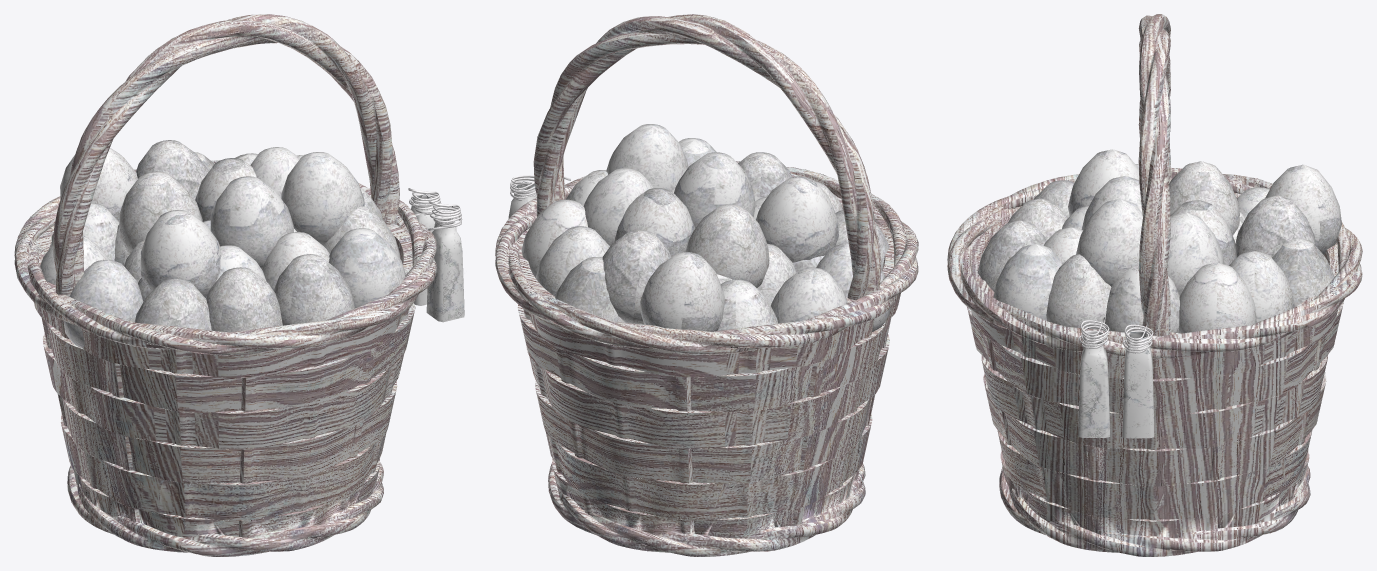
File: balot.obj
3 views of the same model, side by side, from view 1: azimuth 30°, elevation 25°; view 2: azimuth 150°, elevation 25°; view 3: azimuth 270°, elevation 25° (orthographic). The views are drawn at different scales.
Visible parts, largest first — view 1: Basket1, Egg2, Egg1, Egg26, Egg17, Egg20, Egg14, Egg3, Egg9, SawSawan1, Egg13, Egg25 (+9 smaller); view 2: Basket1, Egg15, Egg1, Egg3, Egg25, Egg26, Egg2, Egg23, Egg8, Egg27, Egg5, Egg4 (+8 smaller); view 3: Basket1, Egg6, Egg2, Egg22, Egg20, Egg15, Egg25, Egg27, Asin1, Egg3, SawSawan1, Egg5 (+12 smaller).
Part boxes in pixels (x1,y1,x2,y2): Basket1: (14,14,437,556); Egg2: (281,152,364,245); Egg1: (140,210,221,297); Egg26: (210,176,293,268); Egg17: (273,254,354,325); Egg20: (329,228,405,311); Egg14: (206,267,282,332); Egg3: (119,171,202,254); Egg9: (63,260,143,347); SawSawan1: (426,219,464,322); Egg13: (134,278,211,375); Egg25: (136,140,208,199); Basket1: (495,14,918,556); Egg15: (640,252,724,345); Egg1: (756,176,838,262); Egg3: (685,204,769,287); Egg25: (602,229,671,324); Egg26: (674,152,755,228); Egg2: (606,124,688,191); Egg23: (614,188,695,256); Egg8: (771,267,847,323); Egg27: (583,168,654,246); Egg5: (535,226,609,296); Egg4: (554,257,625,327); Basket1: (947,14,1362,556); Egg6: (1178,262,1256,343); Egg2: (1076,198,1142,286); Egg22: (1046,254,1111,329); Egg20: (993,244,1063,327); Egg15: (1265,164,1341,254); Egg25: (1235,195,1315,257); Egg27: (1167,212,1223,295); Asin1: (1122,332,1154,438); Egg3: (1169,161,1239,235); SawSawan1: (1078,338,1109,437); Egg5: (1229,251,1294,325).
Size of the model in its own units: 3.28 by 3.79 by 3.08.
